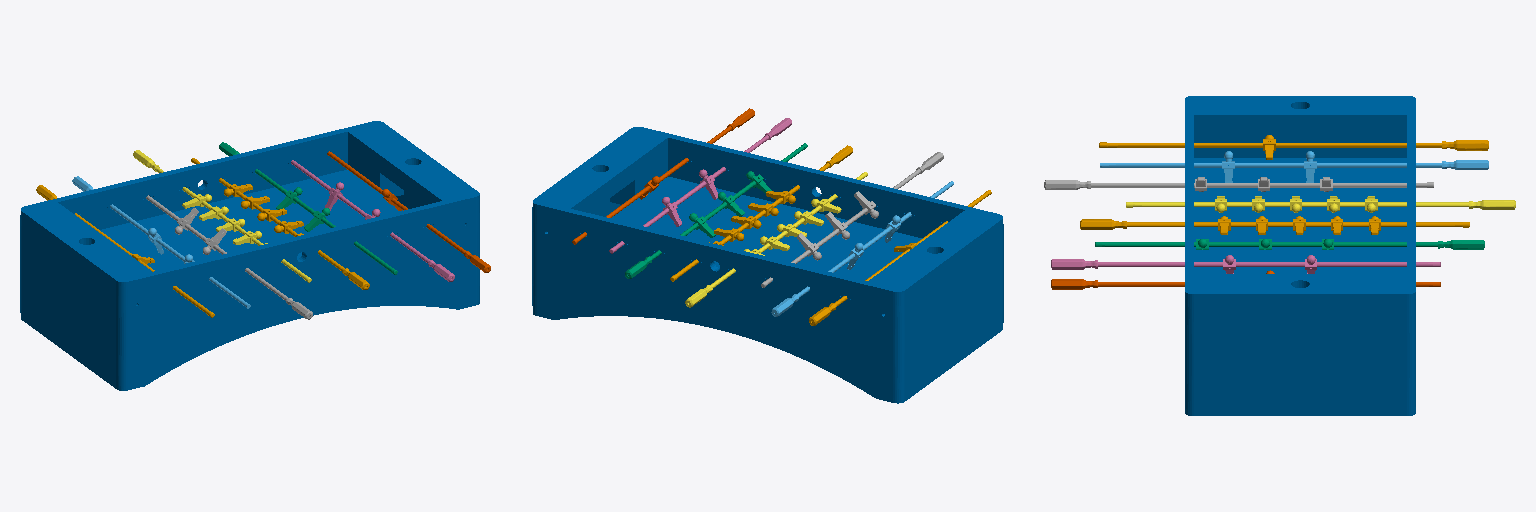
--- Render facts (derived) ---
The picture shows the robot from 3 angles, left to right: view 1: azimuth 30°, elevation 25°; view 2: azimuth 150°, elevation 25°; view 3: azimuth 270°, elevation 25°; orthographic projection.
Robot: foosball — 17 links, 16 joints (8 continuous, 8 prismatic); root link Table_Base; default pose: joints at zero except 2 at the middle of their limits (Midfield2_vir_midfield2_slide = 0.105, Midfield1_vir_midfield1_slide = 0.105).
Visible links, largest first — view 1: Table_Base, Midfield2, Midfield1, Attack2, Attack1, Defense2, Defense1, Goalkeeper2, Goalkeeper1; view 2: Table_Base, Midfield1, Midfield2, Attack2, Attack1, Defense2, Defense1, Goalkeeper2, Goalkeeper1; view 3: Table_Base, Midfield2, Midfield1, Defense1, Attack2, Defense2, Goalkeeper1, Attack1, Goalkeeper2.
Boxes of the visible links, left/top/right/bottom form: Table_Base: left=20, top=121, right=479, bottom=390; Midfield2: left=191, top=158, right=369, bottom=289; Midfield1: left=133, top=150, right=311, bottom=282; Attack2: left=146, top=195, right=312, bottom=319; Attack1: left=219, top=142, right=397, bottom=274; Defense2: left=291, top=160, right=454, bottom=281; Defense1: left=72, top=176, right=250, bottom=308; Goalkeeper2: left=327, top=151, right=490, bottom=272; Goalkeeper1: left=36, top=185, right=214, bottom=317; Table_Base: left=532, top=127, right=1003, bottom=403; Midfield1: left=685, top=172, right=867, bottom=307; Midfield2: left=670, top=145, right=852, bottom=281; Attack2: left=761, top=152, right=943, bottom=287; Attack1: left=625, top=143, right=807, bottom=278; Defense2: left=609, top=118, right=791, bottom=253; Defense1: left=771, top=181, right=953, bottom=316; Goalkeeper2: left=572, top=108, right=754, bottom=244; Goalkeeper1: left=809, top=190, right=991, bottom=325; Table_Base: left=1185, top=96, right=1415, bottom=415; Midfield2: left=1080, top=216, right=1469, bottom=234; Midfield1: left=1126, top=196, right=1515, bottom=212; Defense1: left=1100, top=151, right=1488, bottom=182; Attack2: left=1044, top=177, right=1433, bottom=191; Defense2: left=1051, top=255, right=1440, bottom=273; Goalkeeper1: left=1099, top=135, right=1488, bottom=159; Attack1: left=1095, top=239, right=1484, bottom=249; Goalkeeper2: left=1051, top=270, right=1440, bottom=289.
Bounding box of the posed robot: 1.5 × 1.5 × 0.43 m (x, y, z).
10 mesh visuals loaded from 17 distinct referenced files (10 binary STL); not drawn: 7 (reference not matched to a file when rendering).

robot.urdf — foosball:
<?xml version='1.0' encoding='utf-8'?>
<robot name="foosball">
    <link name="Goalkeeper1">
        <inertial>
            <origin xyz="0.00015340748364756963 3.5914001943169186e-05 -0.18004508424272073" rpy="0.0 -3.323448711015916e-65 0.0" />
            <mass value="2.557229041969769" />
            <inertia ixx="0.38935415533121237" iyy="0.38940013412104135" izz="0.00020139230821980547" ixy="-1.1404153811789277e-05" iyz="1.735769355468153e-05" ixz="7.413255870764025e-05" />
        </inertial>
        <visual name="Goalkeeper1_visual">
            <origin xyz="0.0322833670697139 0.1040684565959938 -0.3689999999999988" rpy="1.5707963267948966 -2.453307075453437e-16 -1.3404210330854185" />
            <geometry>
                <mesh filename="meshes/Goalkeeper1.stl" scale="0.001 0.001 0.001" />
            </geometry>
        </visual>
        <collision name="Goalkeeper1_collision">
            <origin xyz="0.0322833670697139 0.1040684565959938 -0.3689999999999988" rpy="1.5707963267948966 -2.453307075453437e-16 -1.3404210330854185" />
            <geometry>
                <cylinder radius="0.02" length="0.1"/>
            </geometry>
        </collision>
    </link>
    <link name="Defense1">
        <inertial>
            <origin xyz="0.00011531397702249535 0.0002871423908008808 -0.18079889479469435" rpy="8.552847072295026e-50 -8.552847072295028e-50 6.588873714519078e-83" />
            <mass value="2.6042699501405315" />
            <inertia ixx="0.38649228641684696" iyy="0.386418132914762" izz="0.0002590803934539032" ixy="-3.547836191641894e-05" iyz="0.0001407489745217094" ixz="5.651942752982197e-05" />
        </inertial>
        <visual name="Defense1_visual">
            <origin xyz="0.022210175787902457 0.055346395375012104 -0.3690000000000002" rpy="1.5707963267948966 -2.715851401832152e-16 -0.38162138706050686" />
            <geometry>
                <mesh filename="meshes/Defense1.stl" scale="0.001 0.001 0.001" />
            </geometry>
        </visual>
        <collision name="Defense1_collision">
            <origin xyz="0.022210175787902457 0.055346395375012104 -0.3690000000000002" rpy="1.5707963267948966 -2.715851401832152e-16 -0.38162138706050686" />
            <geometry>
                <mesh filename="meshes/Defense1.stl" scale="0.001 0.001 0.001" />
            </geometry>
        </collision>
    </link>
    <link name="Attack1">
        <inertial>
            <origin xyz="-0.0003787224626461594 0.0002450765450893044 -0.20179717475549327" rpy="0.0 -0.0 0.0" />
            <mass value="2.6795859185343374" />
            <inertia ixx="0.39841703303988574" iyy="0.3984800863104434" izz="0.00031830223199669216" ixy="7.012707124995354e-05" iyz="0.00011834525894885428" ixz="-0.00018289124334933127" />
        </inertial>
        <visual name="Attack1_visual">
            <origin xyz="-0.07470511982712821 0.048315635568714654 -0.3819999999999987" rpy="1.5707963267948966 -1.926134445299785e-17 0.9967082728099422" />
            <geometry>
                <mesh filename="meshes/Attack1.stl" scale="0.001 0.001 0.001" />
            </geometry>
        </visual>
        <collision name="Attack1_collision">
            <origin xyz="-0.07470511982712821 0.048315635568714654 -0.3819999999999987" rpy="1.5707963267948966 -1.926134445299785e-17 0.9967082728099422" />
            <geometry>
                <mesh filename="meshes/Attack1.stl" scale="0.001 0.001 0.001" />
            </geometry>
        </collision>
    </link>
    <link name="Midfield1">
        <inertial>
            <origin xyz="-0.0007162435062948891 6.0052380756374645e-05 -0.21673168540513332" rpy="3.4211388289180104e-49 -2.138211768073757e-50 0.0" />
            <mass value="2.8029988064909364" />
            <inertia ixx="0.40617198771791124" iyy="0.40642419435206967" izz="0.000434851047428908" ixy="2.1246050582568447e-05" iyz="2.899210025220089e-05" ixz="-0.0003458820630688544" />
        </inertial>
        <visual name="Midfield1_visual">
            <origin xyz="-0.053239948921766755 0.004450157510560402 -0.3531196480970004" rpy="1.5707963267948966 3.3995327602603468e-18 1.487403371349055" />
            <geometry>
                <mesh filename="meshes/Midfield1.stl" scale="0.001 0.001 0.001" />
            </geometry>
        </visual>
        <collision name="Midfield1_collision">
            <origin xyz="-0.053239948921766755 0.004450157510560402 -0.3531196480970004" rpy="1.5707963267948966 3.3995327602603468e-18 1.487403371349055" />
            <geometry>
                <mesh filename="meshes/Midfield1.stl" scale="0.001 0.001 0.001" />
            </geometry>
        </collision>
    </link>
    <link name="Table_Base">
        <inertial>
            <origin xyz="-2.1292360698890524e-17 6.497912810940666e-18 0.242852583175033" rpy="0.0 0.0 0.0" />
            <mass value="87.47950382636654" />
            <inertia ixx="7.830963138833485" iyy="29.723993535094618" izz="35.40218986488285" ixy="-4.669651389122009e-14" iyz="-4.3853229286109475e-17" ixz="-3.730603648675669e-15" />
        </inertial>
        <visual name="Table_Base_visual">
            <origin xyz="0.0 0.0 0.0" rpy="0.0 0.0 0.0" />
            <geometry>
                <mesh filename="meshes/Table_Base.stl" scale="0.001 0.001 0.001" />
            </geometry>
        </visual>
        <collision name="Table_Base_collision" concave="yes">
            <origin xyz="0.0 0.0 0.0" rpy="0.0 0.0 0.0" />
            <geometry>
                <mesh filename="meshes/Table_Base.stl" scale="0.001 0.001 0.001" />
            </geometry>
        </collision>
    </link>
    <link name="Goalkeeper2">
        <inertial>
            <origin xyz="9.237473082642112e-05 0.00012769673994952768 -0.5549488224106098" rpy="0.0 8.352389719038111e-52 0.0" />
            <mass value="2.556411623016105" />
            <inertia ixx="0.3893033306358114" iyy="0.38928727836986343" izz="0.000201332880941818" ixy="-2.440487239252498e-05" iyz="-6.168538253695233e-05" ixz="-4.462583747658066e-05" />
        </inertial>
        <visual name="Goalkeeper2_visual">
            <origin xyz="0.10846446095646883 -0.010388462689574282 -0.36600000000000094" rpy="-1.5707963267948966 2.1294819442707418e-17 2.51493125444228" />
            <geometry>
                <mesh filename="meshes/Goalkeeper2.stl" scale="0.001 0.001 0.001" />
            </geometry>
        </visual>
        <collision name="Goalkeeper2_collision">
            <origin xyz="0.10846446095646883 -0.010388462689574282 -0.36600000000000094" rpy="-1.5707963267948966 2.1294819442707418e-17 2.51493125444228" />
            <geometry>
                <mesh filename="meshes/Goalkeeper2.stl" scale="0.001 0.001 0.001" />
            </geometry>
        </collision>
    </link>
    <link name="Defense2">
        <inertial>
            <origin xyz="-0.0001720787435395721 0.0002552368917284298 -0.550451743395369" rpy="0.0 -0.0 0.0" />
            <mass value="2.6178540728794384" />
            <inertia ixx="0.39353085361105566" iyy="0.39349232813690466" izz="0.00025987650250569594" ixy="4.756482935802664e-05" iyz="-0.00012325805247295762" ixz="8.309494924230165e-05" />
        </inertial>
        <visual name="Defense2_visual">
            <origin xyz="-0.03332489903129002 0.049456713336927506 -0.36600000000000144" rpy="-1.5707963267948968 -3.689894721673184e-19 -2.548654406344247" />
            <geometry>
                <mesh filename="meshes/Defense2.stl" scale="0.001 0.001 0.001" />
            </geometry>
        </visual>
        <collision name="Defense2_collision">
            <origin xyz="-0.03332489903129002 0.049456713336927506 -0.36600000000000144" rpy="-1.5707963267948968 -3.689894721673184e-19 -2.548654406344247" />
            <geometry>
                <mesh filename="meshes/Defense2.stl" scale="0.001 0.001 0.001" />
            </geometry>
        </collision>
    </link>
    <link name="Attack2">
        <inertial>
            <origin xyz="0.00034227673032070525 -0.0002938364452322162 -0.5672028252445063" rpy="0.0 -0.0 0.0" />
            <mass value="2.679585918534337" />
            <inertia ixx="0.39843694618384845" iyy="0.39846017316648197" izz="0.0003183022319967477" ixy="7.600566869381264e-05" iyz="0.00014190015744164342" ixz="-0.00016528506444211943" />
        </inertial>
        <visual name="Attack2_visual">
            <origin xyz="0.06749002281722921 -0.05796854654831669 -0.3870000000000005" rpy="-1.5707963267948966 -3.4784580259060044e-17 0.8611463455474737" />
            <geometry>
                <mesh filename="meshes/Attack2.stl" scale="0.001 0.001 0.001" />
            </geometry>
        </visual>
        <collision name="Attack2_collision">
            <origin xyz="0.06749002281722921 -0.05796854654831669 -0.3870000000000005" rpy="-1.5707963267948966 -3.4784580259060044e-17 0.8611463455474737" />
            <geometry>
                <mesh filename="meshes/Attack2.stl" scale="0.001 0.001 0.001" />
            </geometry>
        </collision>
    </link>
    <link name="Midfield2">
        <inertial>
            <origin xyz="0.0007187179995420756 -7.448884295016001e-06 -0.5502683145948761" rpy="0.0 -0.0 3.851859888774472e-34" />
            <mass value="2.802998806490934" />
            <inertia ixx="0.4061702389523836" iyy="0.406425943117605" izz="0.0004348510474288524" ixy="2.699299038706065e-06" iyz="3.604986792221653e-06" ixz="-0.00034707628484089554" />
        </inertial>
        <visual name="Midfield2_visual">
            <origin xyz="0.05342260041270155 -0.0005672990444980286 -0.41388035190300526" rpy="-1.5707963267948999 1.6449927125210362e-15 1.5601776426098097" />
            <geometry>
                <mesh filename="meshes/Midfield2.stl" scale="0.001 0.001 0.001" />
            </geometry>
        </visual>
        <collision name="Midfield2_collision">
            <origin xyz="0.05342260041270155 -0.0005672990444980286 -0.41388035190300526" rpy="-1.5707963267948999 1.6449927125210362e-15 1.5601776426098097" />
            <geometry>
                <mesh filename="meshes/Midfield2.stl" scale="0.001 0.001 0.001" />
            </geometry>
        </collision>
    </link>
    <link name="Goalkeeper2_vir">
        <inertial>
            <origin xyz="0.0 -2.842170943040401e-16 -0.006651214066486659" rpy="0.0 -0.0 0.0" />
            <mass value="0.0004289781164884129" />
            <inertia ixx="7.711237889711491e-09" iyy="8.157572822374993e-09" izz="3.2172026207097273e-09" ixy="6.791714526931461e-10" iyz="6.776263578034403e-21" ixz="0.0" />
        </inertial>
        <visual name="Goalkeeper2_vir_visual">
            <origin xyz="0.22268937978500647 -0.5099999335774679 0.10242535711913661" rpy="1.5707963267948966 4.523894771968062e-18 2.51493125444228" />
            <geometry>
                <mesh filename="meshes/Goalkeeper2_vir.stl" scale="0.001 0.001 0.001" />
            </geometry>
        </visual>
        <collision name="Goalkeeper2_vir_collision">
            <origin xyz="0.22268937978500647 -0.5099999335774679 0.10242535711913661" rpy="1.5707963267948966 4.523894771968062e-18 2.51493125444228" />
            <geometry>
                <mesh filename="meshes/Goalkeeper2_vir.stl" scale="0.001 0.001 0.001" />
            </geometry>
        </collision>
    </link>
    <link name="Defense2_vir">
        <inertial>
            <origin xyz="0.0 0.0 -0.006651214066486659" rpy="0.0 -0.0 0.0" />
            <mass value="0.0004289781164884129" />
            <inertia ixx="7.665972409938286e-09" iyy="8.202838302161751e-09" izz="3.217202620750385e-09" ixy="-6.625868498818014e-10" iyz="1.3552527156068805e-20" ixz="-1.3552527156068805e-20" />
        </inertial>
        <visual name="Defense2_vir_visual">
            <origin xyz="0.5554803821761098 0.03364575954760255 0.10242535711913661" rpy="1.5707963267948966 -5.5116381480099175e-19 -2.548654406344247" />
            <geometry>
                <mesh filename="meshes/Defense2_vir.stl" scale="0.001 0.001 0.001" />
            </geometry>
        </visual>
        <collision name="Defense2_vir_collision">
            <origin xyz="0.5554803821761098 0.03364575954760255 0.10242535711913661" rpy="1.5707963267948966 -5.5116381480099175e-19 -2.548654406344247" />
            <geometry>
                <mesh filename="meshes/Defense2_vir.stl" scale="0.001 0.001 0.001" />
            </geometry>
        </collision>
    </link>
    <link name="Attack1_vir">
        <inertial>
            <origin xyz="-1.0658141036401502e-16 0.0 -0.006651214066486518" rpy="0.0 -0.0 0.0" />
            <mass value="0.0004289781164884129" />
            <inertia ixx="8.227621423585415e-09" iyy="7.641189288311334e-09" izz="3.217202622525766e-09" ixy="-6.519984032448485e-10" iyz="6.776263578034403e-21" ixz="0.0" />
        </inertial>
        <visual name="Attack1_vir_visual">
            <origin xyz="-0.49759315386363595 -0.2491817516313906 0.10242535711913675" rpy="1.5707963267948966 -2.7571148672760934e-17 0.9967082728099422" />
            <geometry>
                <mesh filename="meshes/Attack1_vir.stl" scale="0.001 0.001 0.001" />
            </geometry>
        </visual>
        <collision name="Attack1_vir_collision">
            <origin xyz="-0.49759315386363595 -0.2491817516313906 0.10242535711913675" rpy="1.5707963267948966 -2.7571148672760934e-17 0.9967082728099422" />
            <geometry>
                <mesh filename="meshes/Attack1_vir.stl" scale="0.001 0.001 0.001" />
            </geometry>
        </collision>
    </link>
    <link name="Midfield2_vir">
        <inertial>
            <origin xyz="-2.486899575160351e-16 -7.105427357601002e-17 -0.006651214066486659" rpy="0.0 -0.0 0.0" />
            <mass value="0.0004289781164884129" />
            <inertia ixx="8.649141046082479e-09" iyy="7.219669667000116e-09" izz="3.21720261635259e-09" ixy="-1.518138790203229e-11" iyz="-2.0328790734103208e-19" ixz="2.0837010502455788e-19" />
        </inertial>
        <visual name="Midfield2_vir_visual">
            <origin xyz="-0.2875752379703344 -0.47643569831023824 0.10242535711913625" rpy="1.570796326794895 1.4472939232271576e-15 1.5601776426098097" />
            <geometry>
                <mesh filename="meshes/Midfield2_vir.stl" scale="0.001 0.001 0.001" />
            </geometry>
        </visual>
        <collision name="Midfield2_vir_collision">
            <origin xyz="-0.2875752379703344 -0.47643569831023824 0.10242535711913625" rpy="1.570796326794895 1.4472939232271576e-15 1.5601776426098097" />
            <geometry>
                <mesh filename="meshes/Midfield2_vir.stl" scale="0.001 0.001 0.001" />
            </geometry>
        </collision>
    </link>
    <link name="Midfield1_vir">
        <inertial>
            <origin xyz="-7.105427357601002e-17 -7.105427357601002e-17 -0.006651214066486659" rpy="0.0 -0.0 0.0" />
            <mass value="0.0004289781164884129" />
            <inertia ixx="8.639381949732973e-09" iyy="7.229428762238314e-09" izz="3.2172026217193905e-09" ixy="-1.186826965118181e-10" iyz="0.0" ixz="5.082197683525802e-21" />
        </inertial>
        <visual name="Midfield1_vir_visual">
            <origin xyz="-0.3214557254267655 -0.45426502034429406 0.10242535711913661" rpy="1.5707963267948966 4.800841154137654e-18 1.4874033713490553" />
            <geometry>
                <mesh filename="meshes/Midfield1_vir.stl" scale="0.001 0.001 0.001" />
            </geometry>
        </visual>
        <collision name="Midfield1_vir_collision">
            <origin xyz="-0.3214557254267655 -0.45426502034429406 0.10242535711913661" rpy="1.5707963267948966 4.800841154137654e-18 1.4874033713490553" />
            <geometry>
                <mesh filename="meshes/Midfield1_vir.stl" scale="0.001 0.001 0.001" />
            </geometry>
        </collision>
    </link>
    <link name="Attack2_vir">
        <inertial>
            <origin xyz="-1.4210854715202004e-16 0.0 -0.006651214066486659" rpy="0.0 -0.0 0.0" />
            <mass value="0.0004289781164884129" />
            <inertia ixx="8.0422958280039e-09" iyy="7.826514884001269e-09" izz="3.2172026213060385e-09" ixy="-7.067087279960527e-10" iyz="1.3552527156068805e-20" ixz="0.0" />
        </inertial>
        <visual name="Attack2_vir_visual">
            <origin xyz="-0.526704199917905 -0.1796473709991063 0.10242535711913661" rpy="1.5707963267948966 -1.3832167825539804e-17 0.8611463455474737" />
            <geometry>
                <mesh filename="meshes/Attack2_vir.stl" scale="0.001 0.001 0.001" />
            </geometry>
        </visual>
        <collision name="Attack2_vir_collision">
            <origin xyz="-0.526704199917905 -0.1796473709991063 0.10242535711913661" rpy="1.5707963267948966 -1.3832167825539804e-17 0.8611463455474737" />
            <geometry>
                <mesh filename="meshes/Attack2_vir.stl" scale="0.001 0.001 0.001" />
            </geometry>
        </collision>
    </link>
    <link name="Defense1_vir">
        <inertial>
            <origin xyz="-7.105427357601002e-17 0.0 -0.006651214066486659" rpy="0.0 -0.0 0.0" />
            <mass value="0.0004289781164884129" />
            <inertia ixx="7.4178221509029266e-09" iyy="8.450988561170005e-09" izz="3.2172026209672253e-09" ixy="4.94185564696339e-10" iyz="1.3552527156068805e-20" ixz="0.0" />
        </inertial>
        <visual name="Defense1_vir_visual">
            <origin xyz="-0.3397606240010066 0.4407416595881291 0.10242535711913661" rpy="1.5707963267948966 -5.308770865625231e-18 -0.3816213870605068" />
            <geometry>
                <mesh filename="meshes/Defense1_vir.stl" scale="0.001 0.001 0.001" />
            </geometry>
        </visual>
        <collision name="Defense1_vir_collision">
            <origin xyz="-0.3397606240010066 0.4407416595881291 0.10242535711913661" rpy="1.5707963267948966 -5.308770865625231e-18 -0.3816213870605068" />
            <geometry>
                <mesh filename="meshes/Defense1_vir.stl" scale="0.001 0.001 0.001" />
            </geometry>
        </collision>
    </link>
    <link name="Goalkeeper1_vir">
        <inertial>
            <origin xyz="-1.4210854715202004e-16 7.105427357601002e-17 -0.006651214066486518" rpy="0.0 -0.0 0.0" />
            <mass value="0.0004289781164884129" />
            <inertia ixx="8.574752110600595e-09" iyy="7.294058601363916e-09" izz="3.217202622498661e-09" ixy="3.1785785192339853e-10" iyz="0.0" ixz="1.3552527156068805e-20" />
        </inertial>
        <visual name="Goalkeeper1_vir_visual">
            <origin xyz="0.165554711588606 0.5313022958625923 0.10242535711913675" rpy="1.5707963267948966 -1.2557393277891349e-32 -1.3404210330854185" />
            <geometry>
                <mesh filename="meshes/Goalkeeper1_vir.stl" scale="0.001 0.001 0.001" />
            </geometry>
        </visual>
        <collision name="Goalkeeper1_vir_collision">
            <origin xyz="0.165554711588606 0.5313022958625923 0.10242535711913675" rpy="1.5707963267948966 -1.2557393277891349e-32 -1.3404210330854185" />
            <geometry>
                <mesh filename="meshes/Goalkeeper1_vir.stl" scale="0.001 0.001 0.001" />
            </geometry>
        </collision>
    </link>
    <joint name="Table_Base_goal2_rev" type="continuous">
        <origin xyz="0.525 0.270 0.360" rpy="-1.5707963268 -0.0000000000 0.0000000000" />
        <parent link="Table_Base" />
        <child link="Goalkeeper2_vir" />
        <axis xyz="0.0 0.0 1.0" />
    </joint>
    <joint name="Table_Base_defense2_rev" type="continuous">
        <origin xyz="0.375 0.270 0.360" rpy="-1.5707963268 -0.0000000000 0.0000000000" />
        <parent link="Table_Base" />
        <child link="Defense2_vir" />
        <axis xyz="0.0 0.0 1.0" />
        <limit lower="-3.141593" upper="3.141593" effort="1000000" velocity="1000000" />
    </joint>
    <joint name="Table_Base_attack1_rev" type="continuous">
        <origin xyz="0.225 0.270 0.360" rpy="-1.5707963268 -0.0000000000 0.0000000000" />
        <parent link="Table_Base" />
        <child link="Attack1_vir" />
        <axis xyz="0.0 0.0 1.0" />
        <limit lower="-3.141593" upper="3.141593" effort="1000000" velocity="1000000" />
    </joint>
    <joint name="Table_Base_midfield2_rev" type="continuous">
        <origin xyz="0.075 0.270 0.360" rpy="-1.5707963268 -0.0000000000 0.0000000000" />
        <parent link="Table_Base" />
        <child link="Midfield2_vir" />
        <axis xyz="0.0 0.0 1.0" />
        <limit lower="-3.141593" upper="3.141593" effort="1000000" velocity="1000000" />
    </joint>
    <joint name="Table_Base_midfield1_rev" type="continuous">
        <origin xyz="-0.075 0.270 0.360" rpy="-1.5707963268 -0.0000000000 0.0000000000" />
        <parent link="Table_Base" />
        <child link="Midfield1_vir" />
        <axis xyz="0.0 0.0 1.0" />
        <limit lower="-3.141593" upper="3.141593" effort="1000000" velocity="1000000" />
    </joint>
    <joint name="Table_Base_attack2_rev" type="continuous">
        <origin xyz="-0.225 0.270 0.360" rpy="-1.5707963268 -0.0000000000 0.0000000000" />
        <parent link="Table_Base" />
        <child link="Attack2_vir" />
        <axis xyz="0.0 0.0 1.0" />
        <limit lower="-3.141593" upper="3.141593" effort="1000000" velocity="1000000" />
    </joint>
    <joint name="Table_Base_defense1_rev" type="continuous">
        <origin xyz="-0.375 0.270 0.360" rpy="-1.5707963268 -0.0000000000 0.0000000000" />
        <parent link="Table_Base" />
        <child link="Defense1_vir" />
        <axis xyz="0.0 0.0 1.0" />
        <limit lower="-3.141593" upper="3.141593" effort="1000000" velocity="1000000" />
    </joint>
    <joint name="Table_Base_goal1_rev" type="continuous">
        <origin xyz="-0.525 0.270 0.360" rpy="-1.5707963268 -0.0000000000 0.0000000000" />
        <parent link="Table_Base" />
        <child link="Goalkeeper1_vir" />
        <axis xyz="0.0 0.0 1.0" />
        <limit lower="-3.141593" upper="3.141593" effort="1000000" velocity="1000000" />
    </joint>
    <joint name="Defense2_vir_defense2_slide" type="prismatic">
        <origin xyz="0.0 0.0 0.0" rpy="-4.664361584062837e-35 -1.6687317804273193e-34 0.0" />
        <parent link="Defense2_vir" />
        <child link="Defense2" />
        <axis xyz="1.6687317804273193e-34 -4.664361584062837e-35 1.0" />
        <limit lower="-0.060" upper="0.260" effort="1000000" velocity="1000000" />
    </joint>
    <joint name="Attack1_vir_attack1_slide" type="prismatic">
        <origin xyz="0.0 0.0 0.0" rpy="3.0814879110195774e-33 5.200010849845537e-33 0.0" />
        <parent link="Attack1_vir" />
        <child link="Attack1" />
        <axis xyz="-5.200010849845537e-33 3.0814879110195774e-33 1.0" />
        <limit lower="0.000" upper="0.200" effort="1000000" velocity="1000000" />
    </joint>
    <joint name="Midfield2_vir_midfield2_slide" type="prismatic">
        <origin xyz="0.0 0.0 0.0" rpy="6.471124613141114e-32 -0.0 1.7347234759768075e-18" />
        <parent link="Midfield2_vir" />
        <child link="Midfield2" />
        <axis xyz="0.0 6.471124613141112e-32 0.9999999999999999" />
        <limit lower="0.040" upper="0.170" effort="1000000" velocity="1000000" />
    </joint>
    <joint name="Midfield1_vir_midfield1_slide" type="prismatic">
        <origin xyz="0.0 0.0 0.0" rpy="1.7333369499485123e-33 -1.9259299443872363e-34 0.0" />
        <parent link="Midfield1_vir" />
        <child link="Midfield1" />
        <axis xyz="1.925929944387236e-34 1.7333369499485123e-33 1.0" />
        <limit lower="0.040" upper="0.170" effort="1000000" velocity="1000000" />
    </joint>
    <joint name="Attack2_vir_attack2_slide" type="prismatic">
        <origin xyz="0.0 0.0 0.0" rpy="-1.925929944387236e-34 7.703719777548943e-34 0.0" />
        <parent link="Attack2_vir" />
        <child link="Attack2" />
        <axis xyz="-7.703719777548943e-34 -1.925929944387236e-34 1.0" />
        <limit lower="0.000" upper="0.200" effort="1000000" velocity="1000000" />
    </joint>
    <joint name="Defense1_vir_defense1_slide" type="prismatic">
        <origin xyz="0.0 0.0 0.0" rpy="7.703719777548943e-34 -5.777789833161708e-34 0.0" />
        <parent link="Defense1_vir" />
        <child link="Defense1" />
        <axis xyz="5.7777898331617076e-34 7.703719777548943e-34 1.0" />
        <limit lower="-0.060" upper="0.260" effort="1000000" velocity="1000000" />
    </joint>
    <joint name="Goalkeeper1_vir_goal1_slide" type="prismatic">
        <origin xyz="0.0 0.0 0.0" rpy="-2.309268709519657e-47 4.105366594701612e-48 2.7755575615628907e-17" />
        <parent link="Goalkeeper1_vir" />
        <child link="Goalkeeper1" />
        <axis xyz="-4.1053665947016125e-48 -2.309268709519657e-47 1.0" />
        <limit lower="0.000" upper="0.200" effort="1000000" velocity="1000000" />
    </joint>
    <joint name="Goalkeeper2_vir_goal2_slide" type="prismatic">
        <origin xyz="0.0 0.0 0.0" rpy="4.664361584062837e-34 1.9560225997682864e-35 -5.551115123125783e-17" />
        <parent link="Goalkeeper2_vir" />
        <child link="Goalkeeper2" />
        <axis xyz="-1.9560225997682864e-35 4.664361584062837e-34 1.0" />
        <limit lower="0.000" upper="0.200" effort="1000000" velocity="1000000" />
    </joint>
</robot>
